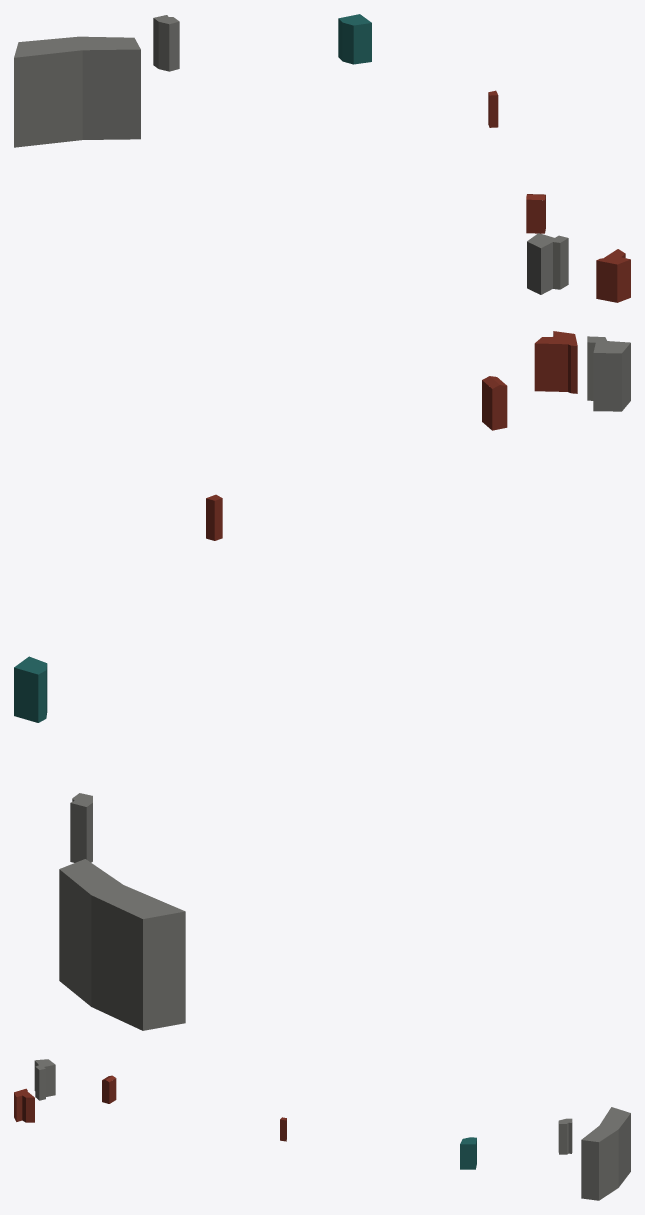
The model's file is near-15-27354-14858.6bb2cd66.glb.
3 views of the same model, one above another, from view 1: azimuth 30°, elevation 25°; view 2: azimuth 150°, elevation 25°; view 3: azimuth 270°, elevation 25° (orthographic). The views are drawn at different scales.
Bounding box in the file's own units: 121 × 96.95 × 410.
